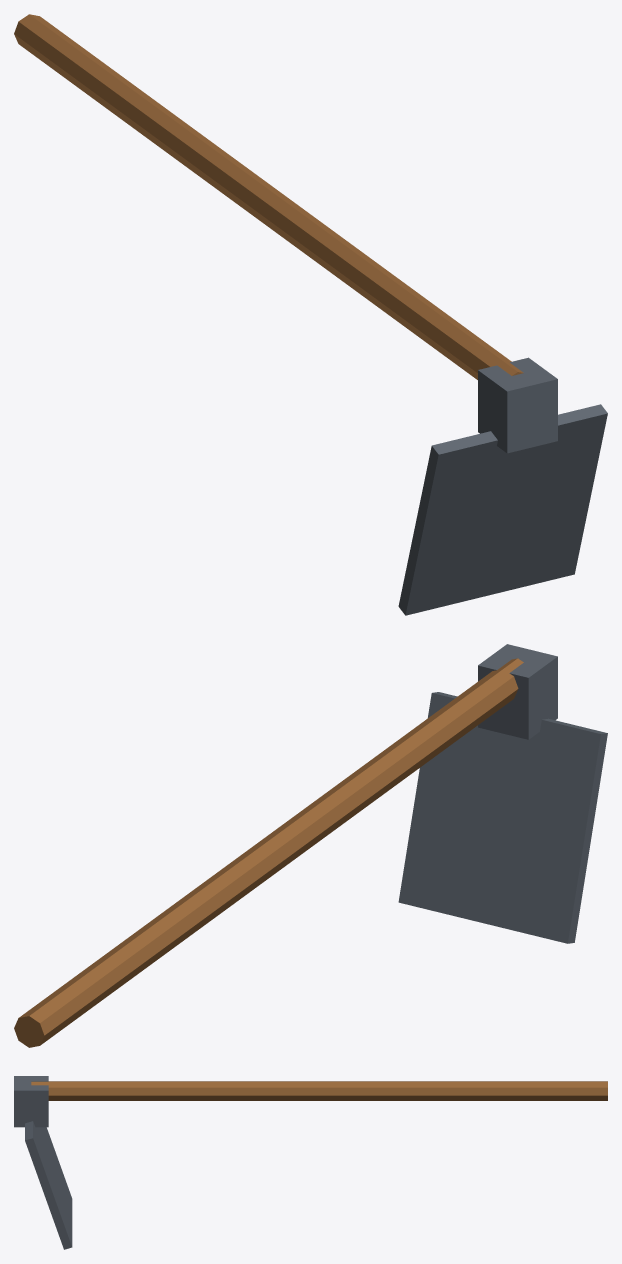
Rendered from f06-cangkul.glb.
3 views of the same model, one above another, from view 1: azimuth 30°, elevation 25°; view 2: azimuth 150°, elevation 25°; view 3: azimuth 270°, elevation 25° (orthographic). The views are drawn at different scales.
Parts seen in each view (by area): view 1: EX_kebun:besi, EX_kebun:gagang; view 2: EX_kebun:besi, EX_kebun:gagang; view 3: EX_kebun:gagang, EX_kebun:besi.
Boxes of the visible parts, left/top/right/bottom form: EX_kebun:besi: left=398, top=357, right=607, bottom=615; EX_kebun:gagang: left=14, top=14, right=523, bottom=379; EX_kebun:besi: left=398, top=644, right=607, bottom=943; EX_kebun:gagang: left=14, top=658, right=523, bottom=1047; EX_kebun:gagang: left=31, top=1081, right=607, bottom=1100; EX_kebun:besi: left=14, top=1076, right=72, bottom=1249.
Bounding box in the file's own units: 0.2 × 0.2749 × 1.03.
